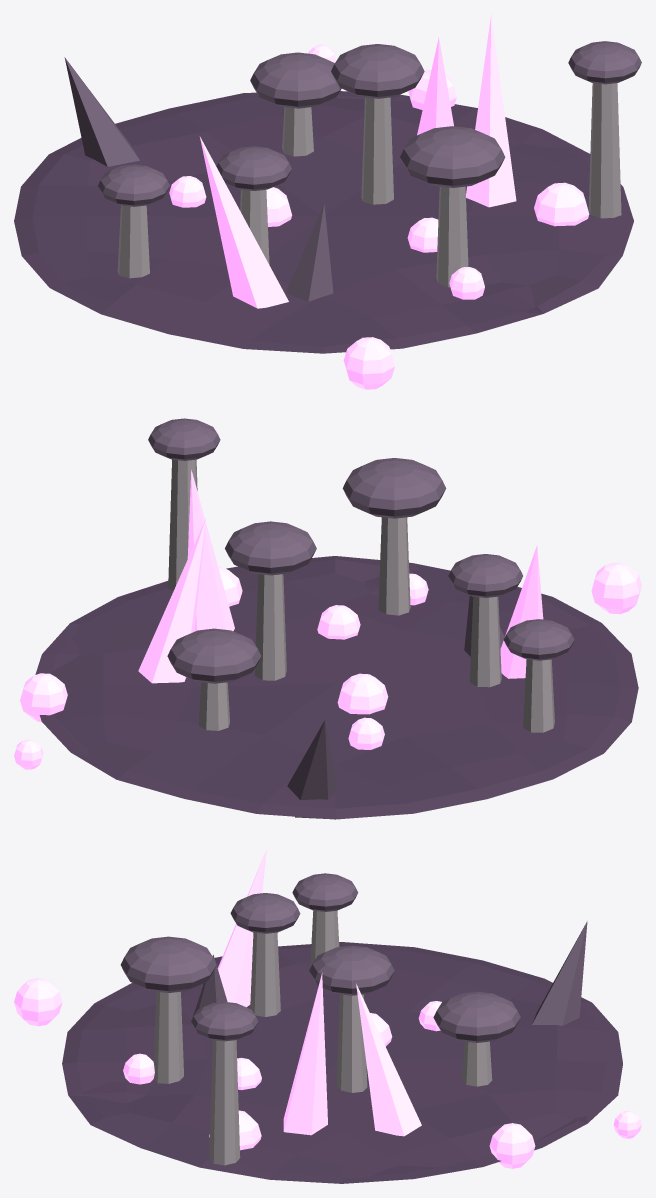
File: blight.glb
3 views of the same model, one above another, from view 1: azimuth 30°, elevation 25°; view 2: azimuth 150°, elevation 25°; view 3: azimuth 270°, elevation 25° (orthographic). The views are drawn at different scales.
Parts seen in each view (by area): view 1: blight; view 2: blight; view 3: blight.
Part boxes in pixels (x1,y1,x2,y2): blight: (14,15,641,389); blight: (14,418,641,819); blight: (14,849,641,1183).
Size of the model in its own units: 1.28 by 0.4373 by 1.4.
